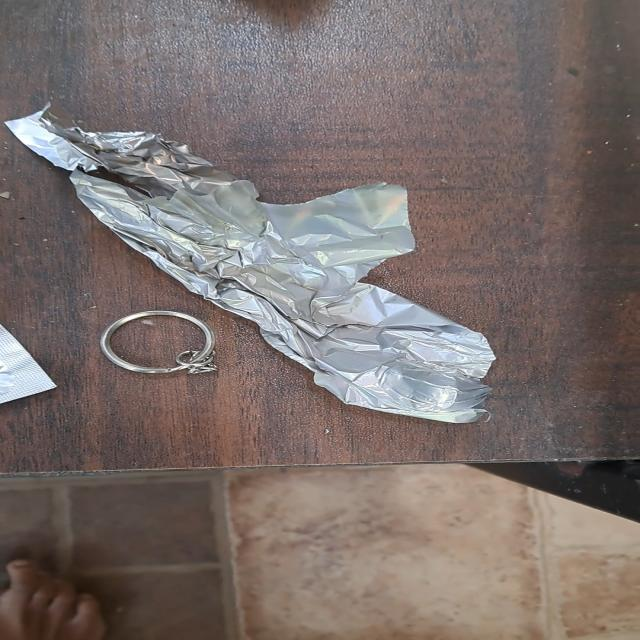Anorganik: (0, 95, 536, 435), (83, 290, 243, 385)
